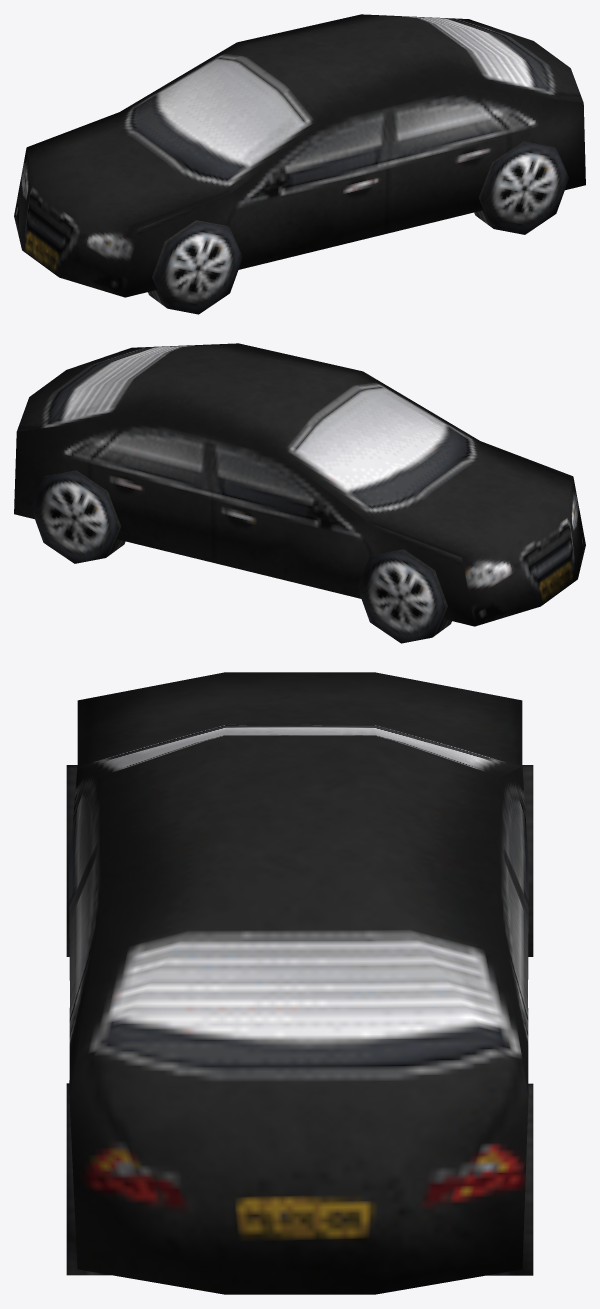
File: car1.fbx
The picture shows the model from 3 angles, top to bottom: view 1: azimuth 30°, elevation 25°; view 2: azimuth 150°, elevation 25°; view 3: azimuth 270°, elevation 25°; orthographic projection. The views are drawn at different scales.
Parts seen in each view (by area): view 1: car1; view 2: car1; view 3: car1.
Boxes of the visible parts, x1,y1,x2,y2 form: car1: (14, 14, 585, 314); car1: (14, 343, 585, 643); car1: (66, 672, 533, 1294).
Bounding box in the file's own units: 467 × 183 × 152.
1 material, 1 textured.
